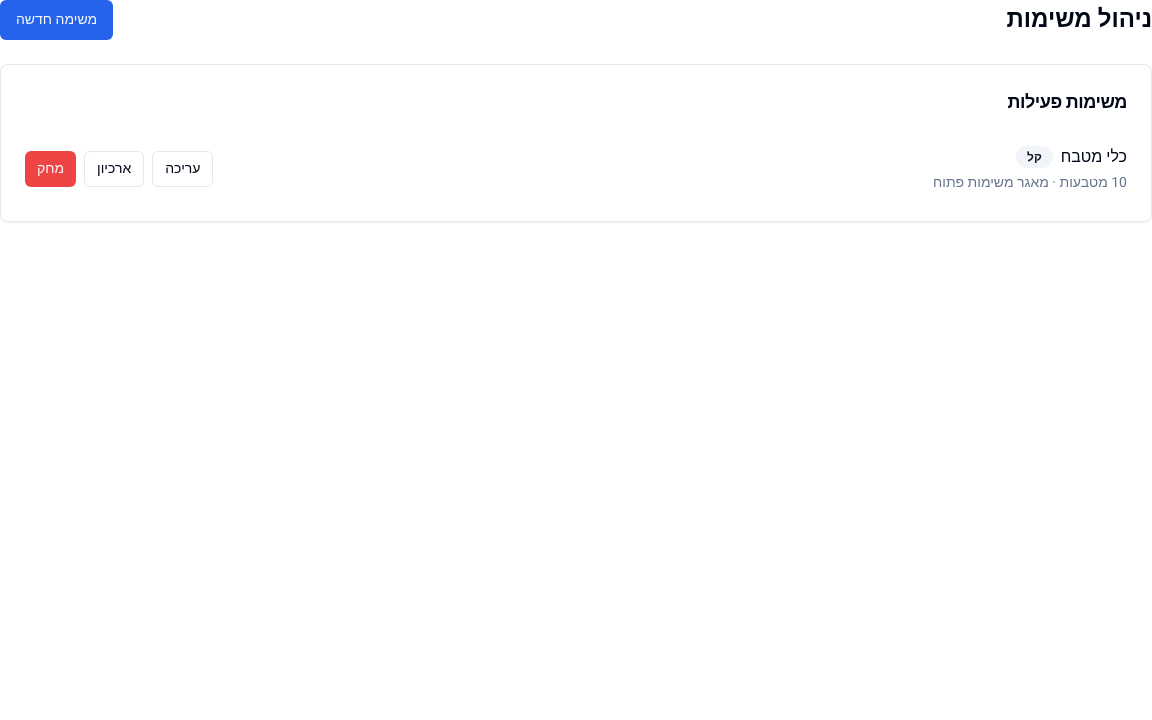
Test: ChoresPage › rpc PENDING_COMPLETIONS error shows correct message in dialog
Click the button "מחק" at [51, 169], box [25,151,76,187]
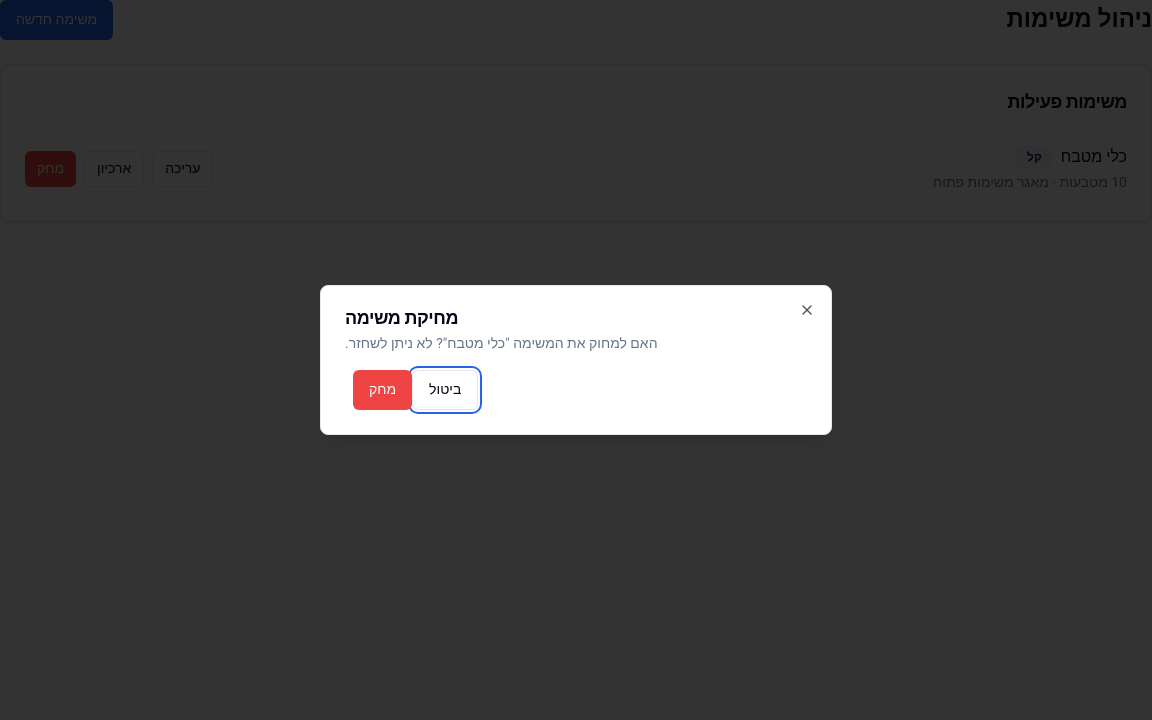
Result: the dialog is shown at [320,285,832,435]
Click the button "מחק" at [383, 390], box [353,370,412,410]
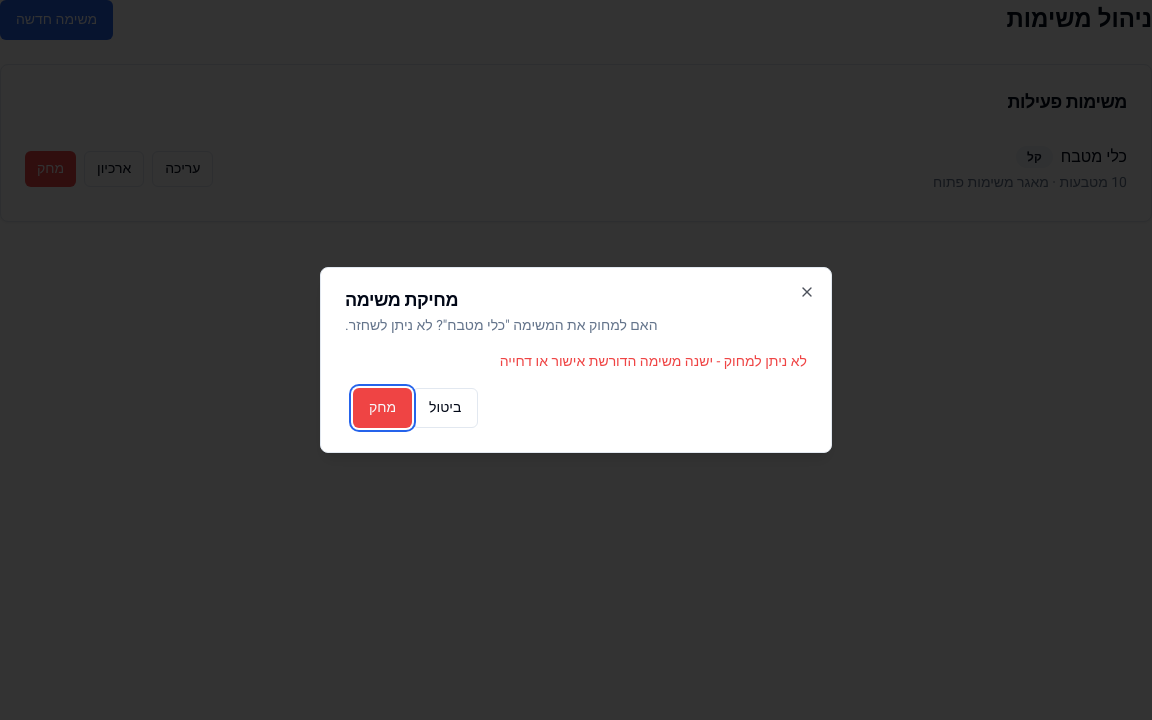
Result: the message reads "לא ניתן למחוק - ישנה משימה הדורשת אישור או דחייה" at [500,351,807,372]
